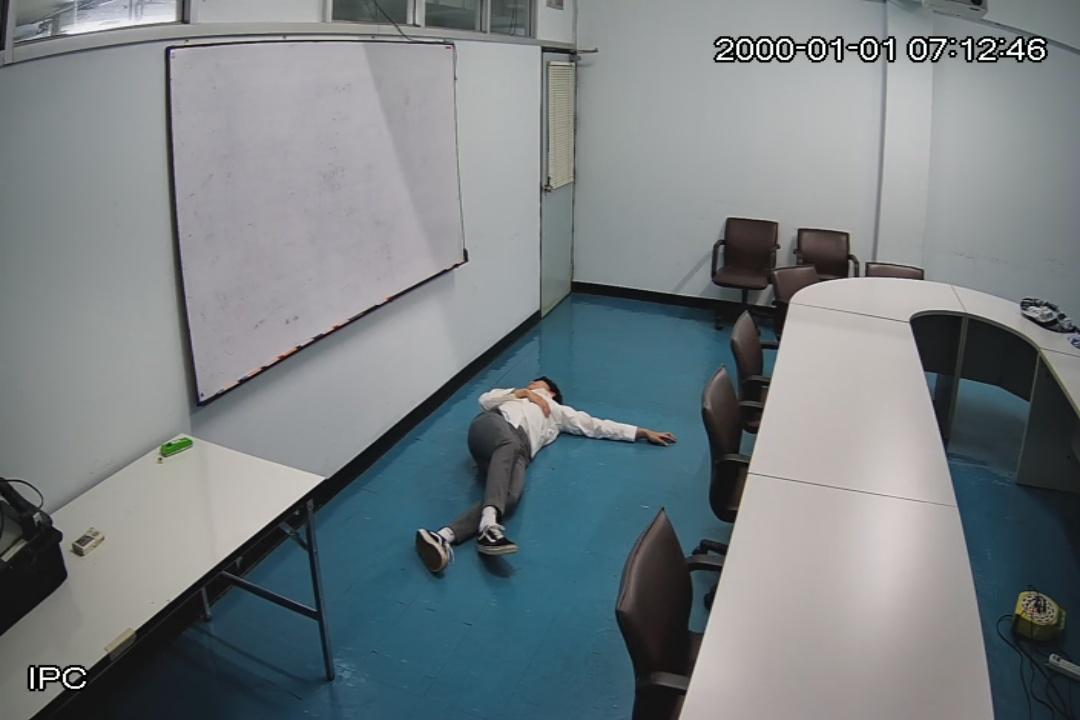fall: (414, 370, 678, 584)
